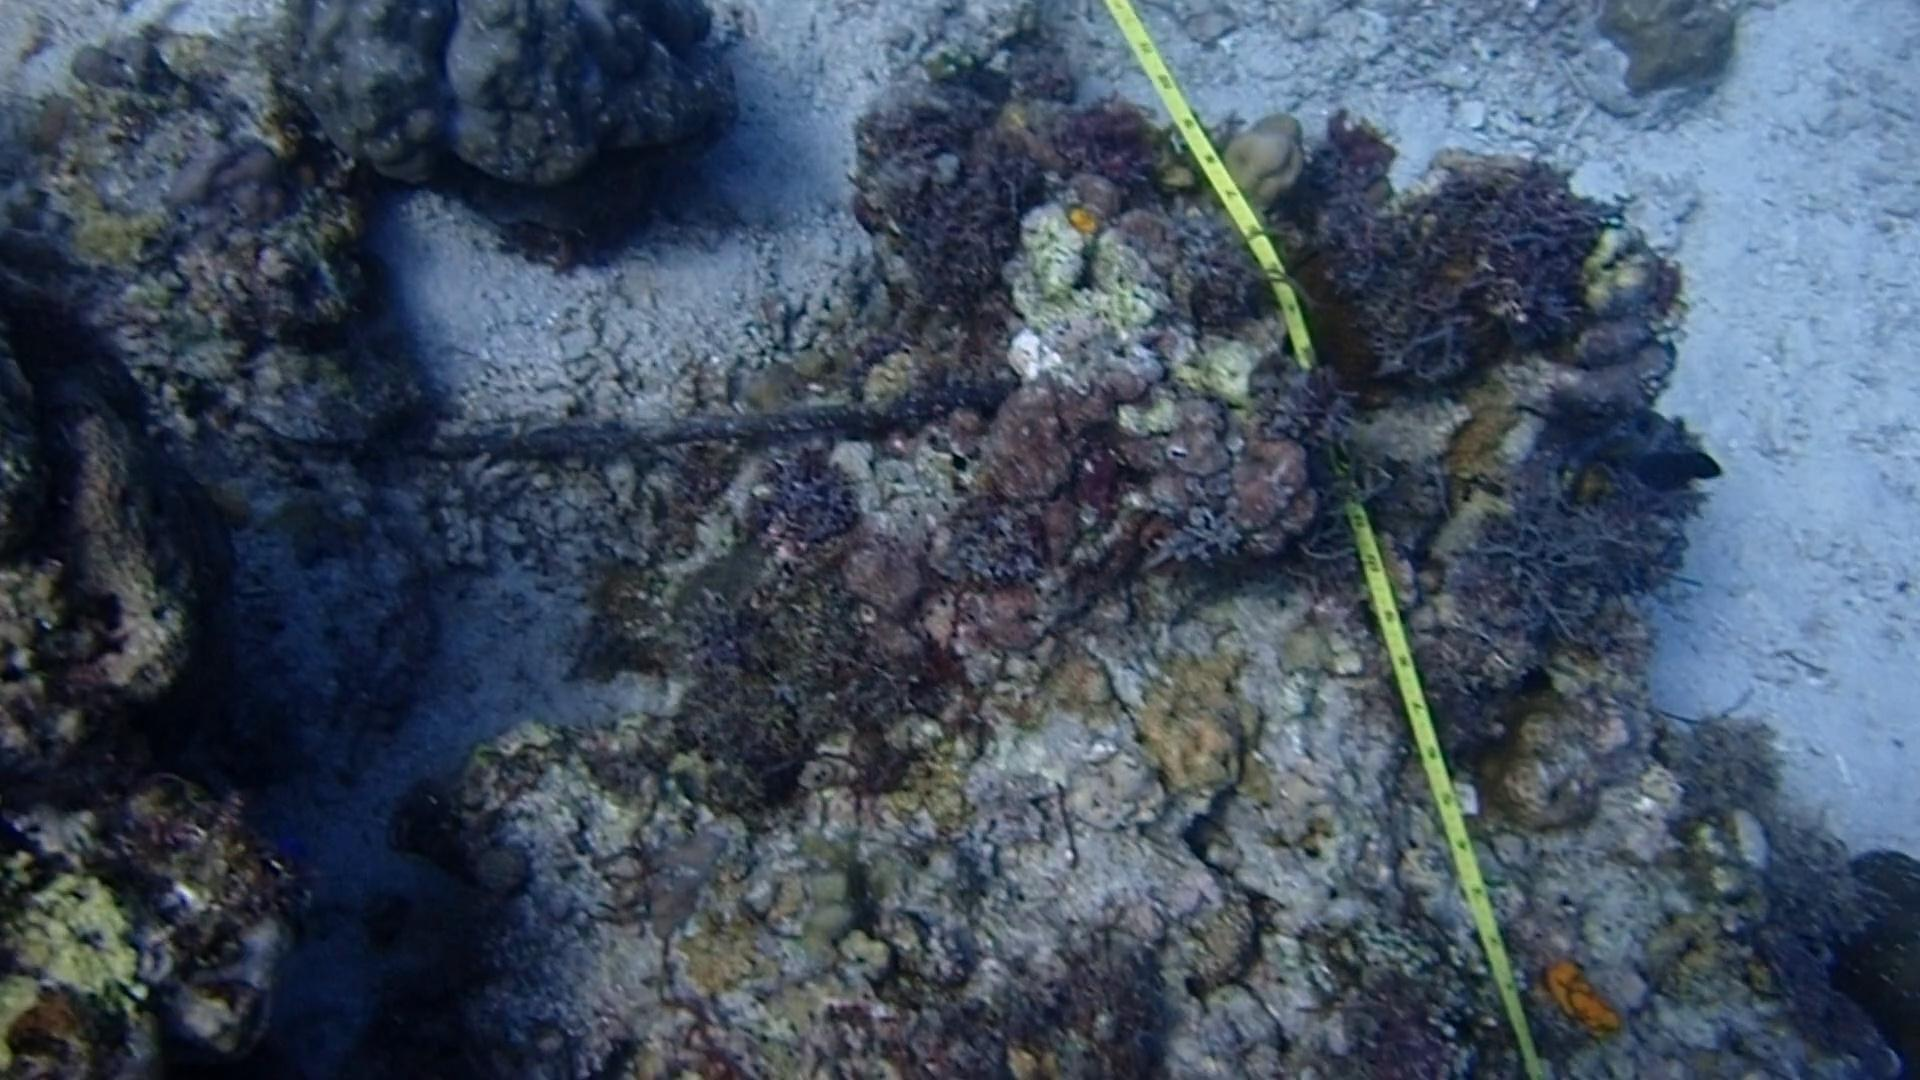Dark Fish: (1629, 433, 1737, 517)
